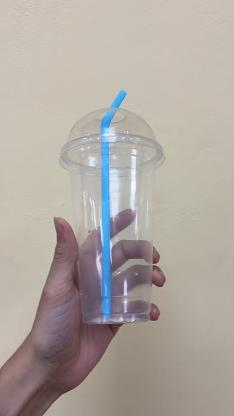Plastic Cup: (64, 104, 168, 324)
